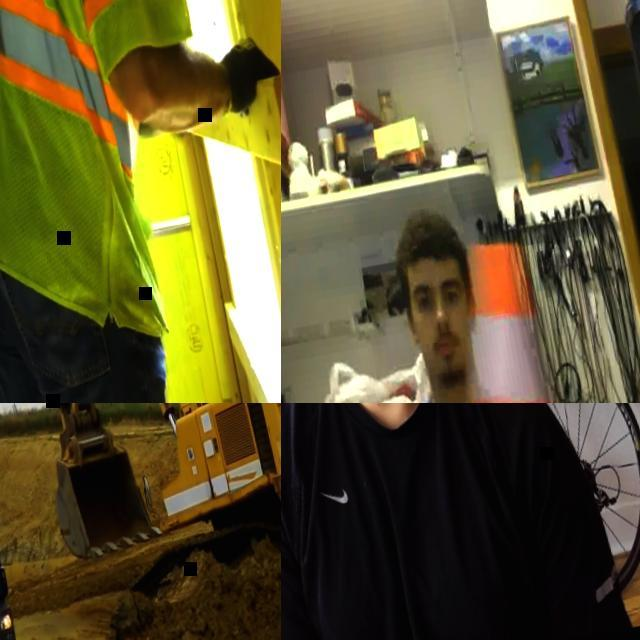vest: (0, 0, 242, 363)
